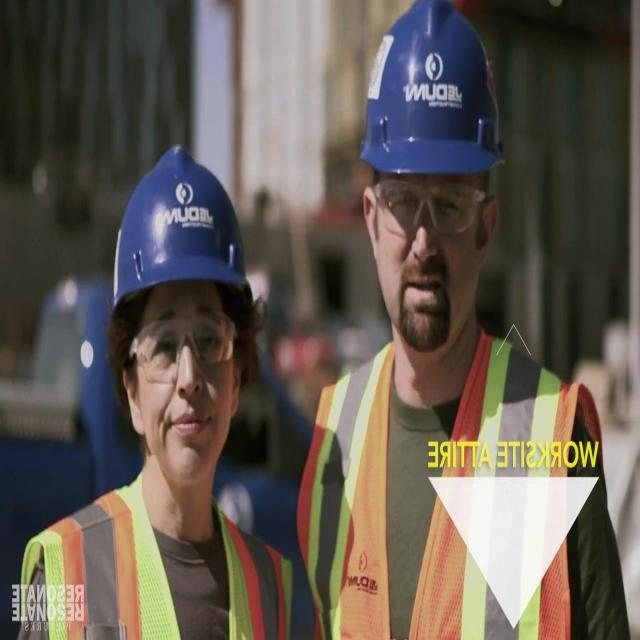Reflective-Jacket: (294, 328, 610, 636), (12, 470, 300, 640)
Safety-Helmet: (102, 138, 266, 324), (354, 5, 508, 196)
